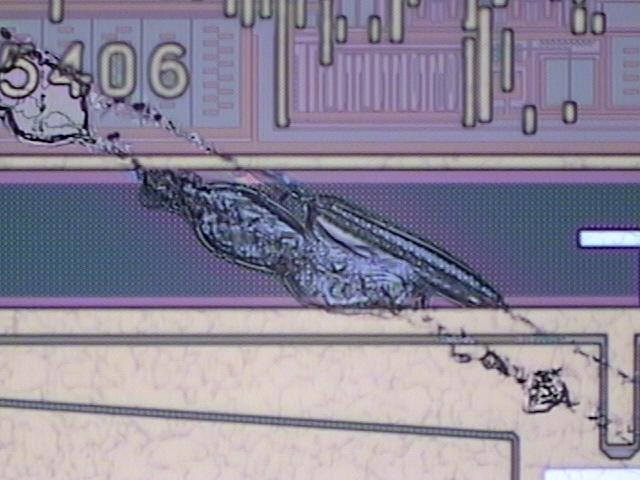SCRATCH: (1, 22, 640, 453)
